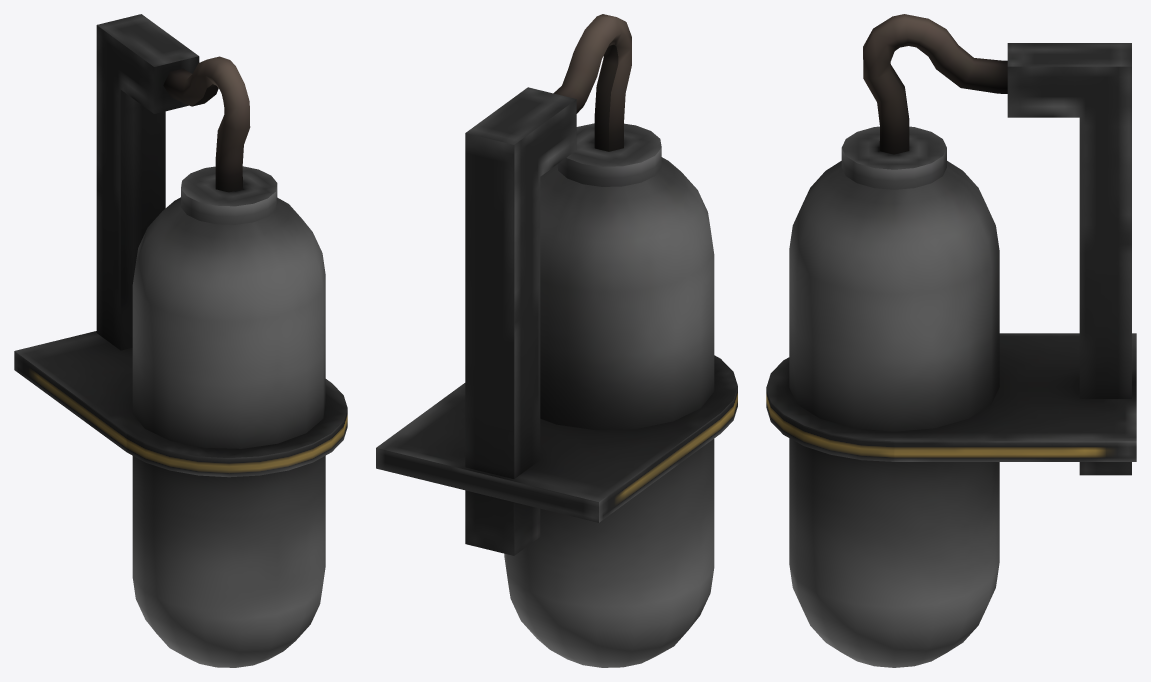
The model's file is bluedog_Xenon_SmallSingle.fbx.
3 views of the same model, side by side, from view 1: azimuth 30°, elevation 25°; view 2: azimuth 150°, elevation 25°; view 3: azimuth 270°, elevation 25° (orthographic). The views are drawn at different scales.
Visible parts, largest first — view 1: pSphere10, pCube71, pCylinder218, extrudedSurface24; view 2: pSphere10, pCube71, pCylinder218, extrudedSurface24; view 3: pSphere10, pCube71, pCylinder218, extrudedSurface24.
Boxes of the visible parts, x1,y1,x2,y2 form: pSphere10: [132, 166, 325, 667]; pCube71: [96, 14, 199, 350]; pCylinder218: [14, 331, 347, 477]; extrudedSurface24: [163, 56, 250, 192]; pSphere10: [504, 123, 714, 667]; pCube71: [465, 87, 576, 555]; pCylinder218: [376, 355, 737, 522]; extrudedSurface24: [553, 14, 631, 151]; pSphere10: [789, 126, 999, 667]; pCube71: [1007, 43, 1131, 475]; pCylinder218: [766, 333, 1136, 461]; extrudedSurface24: [863, 14, 1007, 154].
Size of the model in its own units: 0.0786 by 0.2174 by 0.1137.
1 material, 1 textured.
